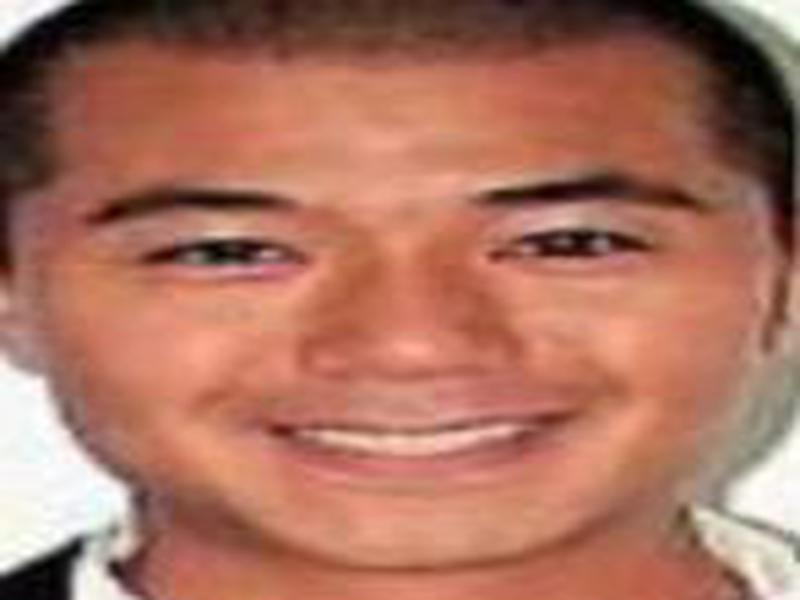without_mask: (19, 42, 753, 572)
